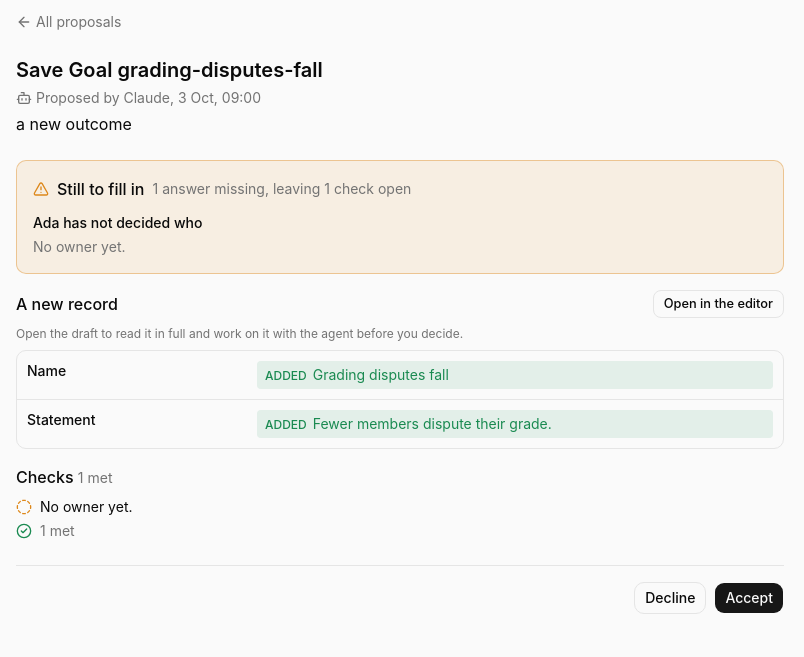
it: proposals › say so when the manifest changed since the agent proposed
Click the button "Accept". click: (749, 598)
box: top-left (714, 582), bottom-right (784, 614)
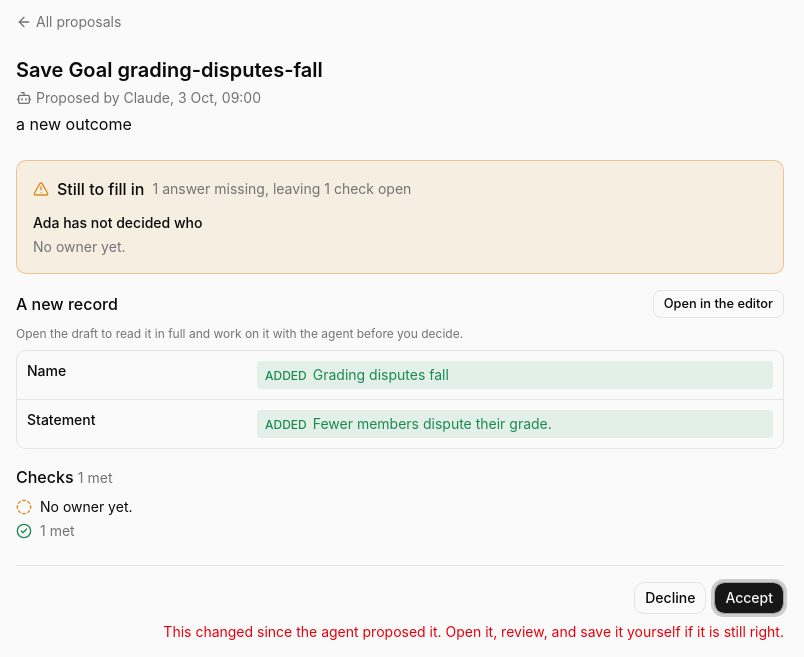
Check: the text "This changed since the agent proposed it. Open it, review, and save it yourself if it is still right." is shown, box top-left (163, 623), bottom-right (784, 640)
